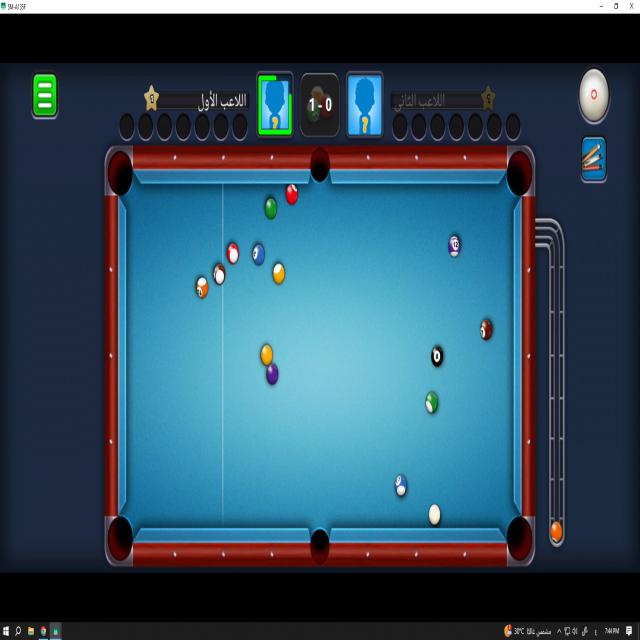object_ball: (395, 474, 407, 496), (480, 319, 492, 340), (267, 363, 278, 385), (426, 392, 437, 413), (449, 236, 460, 257), (197, 277, 208, 298), (227, 243, 238, 264), (261, 345, 272, 366), (214, 264, 225, 285), (265, 198, 276, 219), (273, 264, 284, 285), (253, 245, 264, 265), (286, 185, 297, 205), (432, 346, 443, 366)
white_cue_ball: (429, 505, 440, 525)
